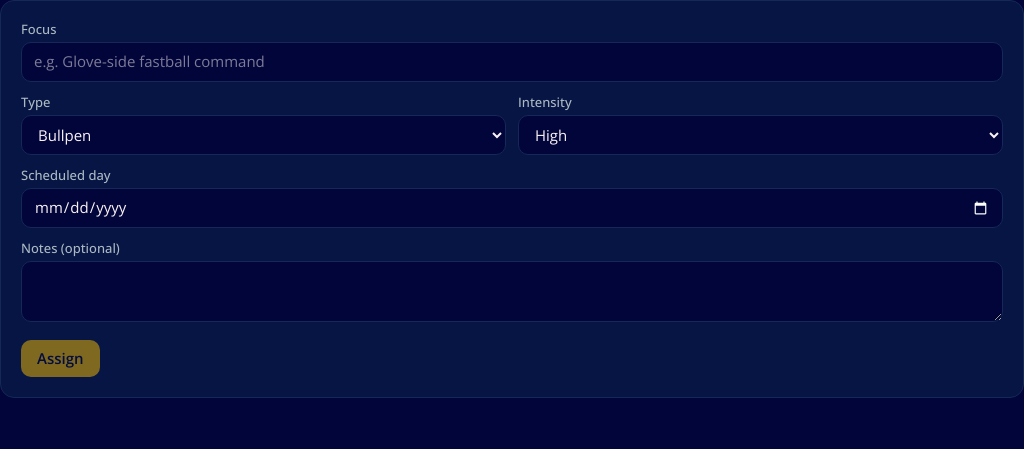
AssignWorkForm › surfaces a server error
In the field with placeholder "e.g. Glove-side fastball command": (512, 62) [21,42,1003,82], type "X"
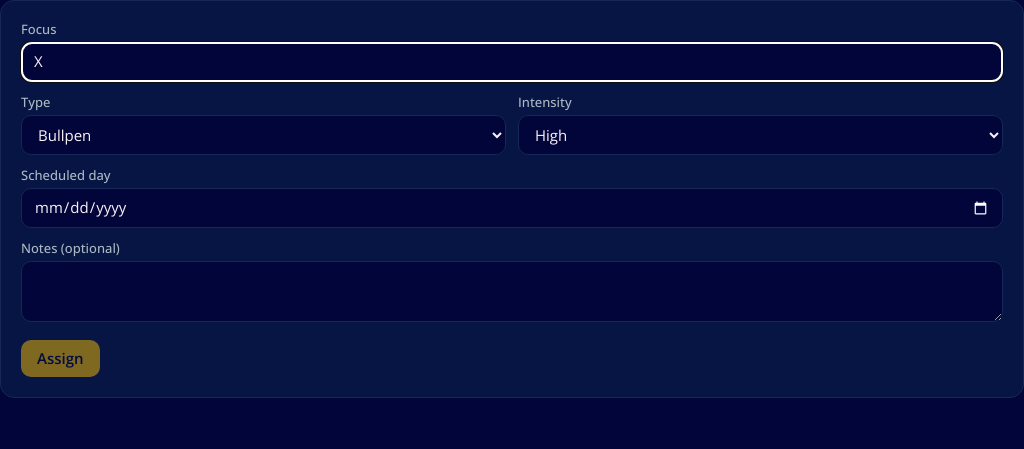
In the date field named "Scheduled day": (512, 208) [21,188,1003,228], type "2026-07-28"
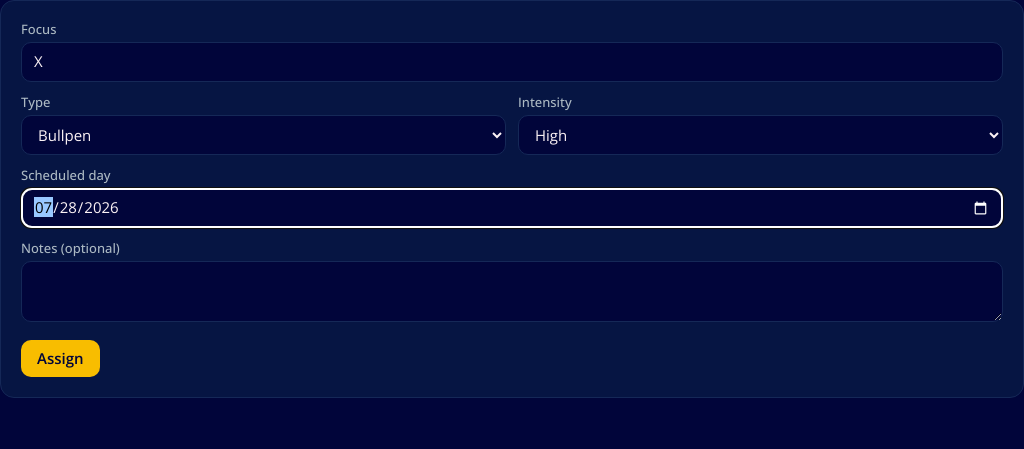
Click the button "Assign": (60, 359) [21,340,100,377]
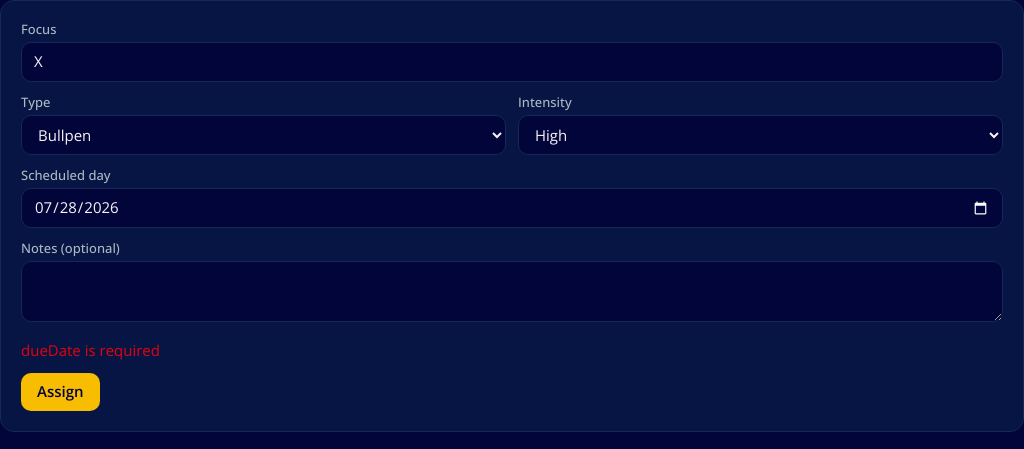
Now the text "dueDate is required" is shown, box [21,340,160,360]
